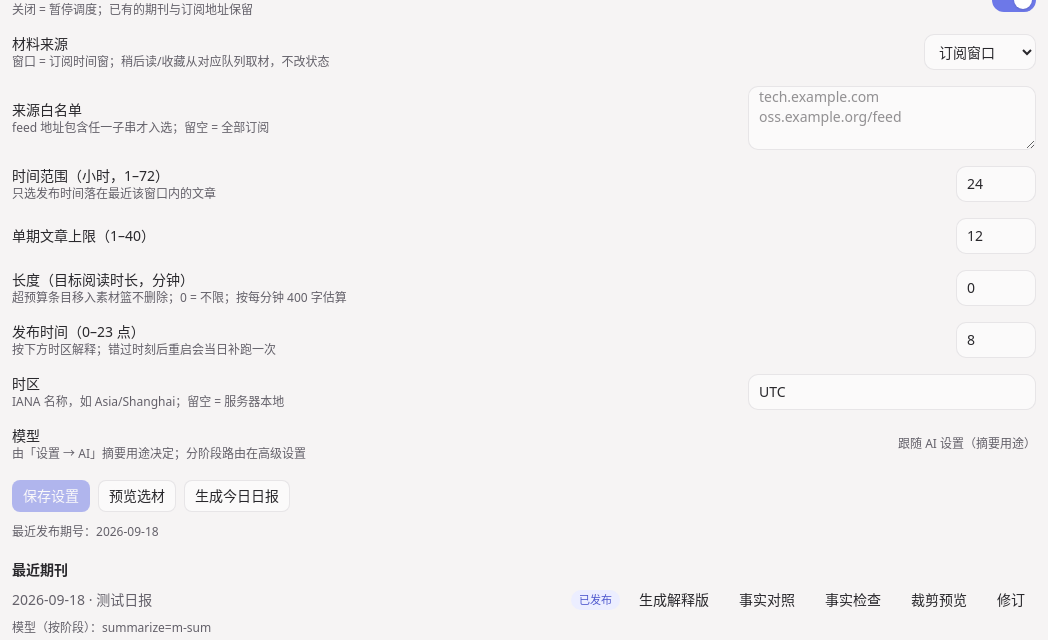
it: N173 事实检查视图 › 逐句展示；人工改写句标注待核实
The width and height of the screenshot is (1048, 640).
Step 1. Click the button "事实检查" → (853, 600), box [814, 584, 892, 616]
(page scrolled)
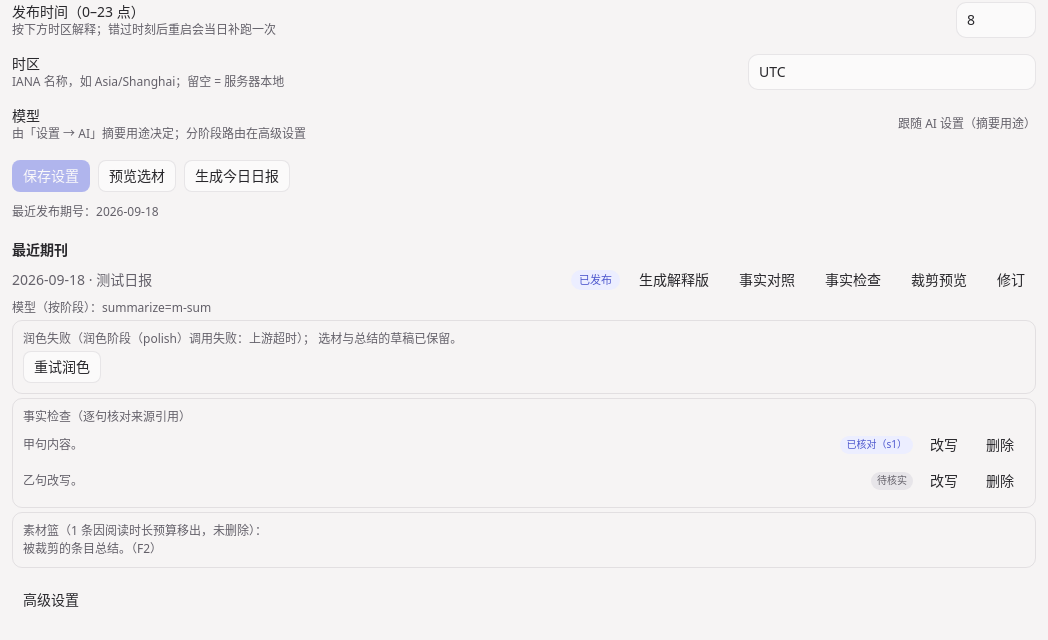
Expected: the text "甲句内容。" is shown, [23, 436, 83, 453]
Expected: the text "待核实" is shown, [871, 472, 913, 490]
Expected: the text "已核对（s1）" is shown, [840, 436, 913, 454]
